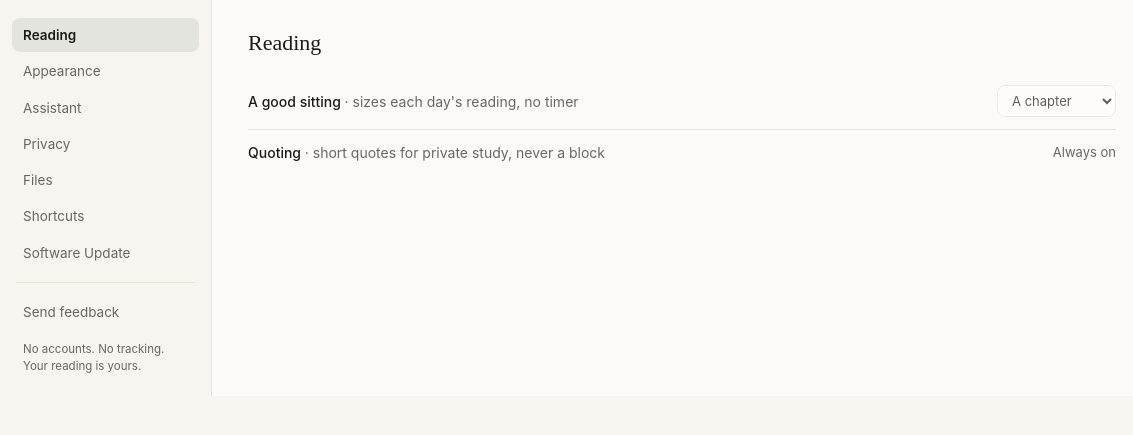
Test: Appearance pane › the text-size stepper nudges the shared tl.fontSize pref and shows pt
Click the button "Appearance" at {"x": 106, "y": 71}, box [12,54,199,89]
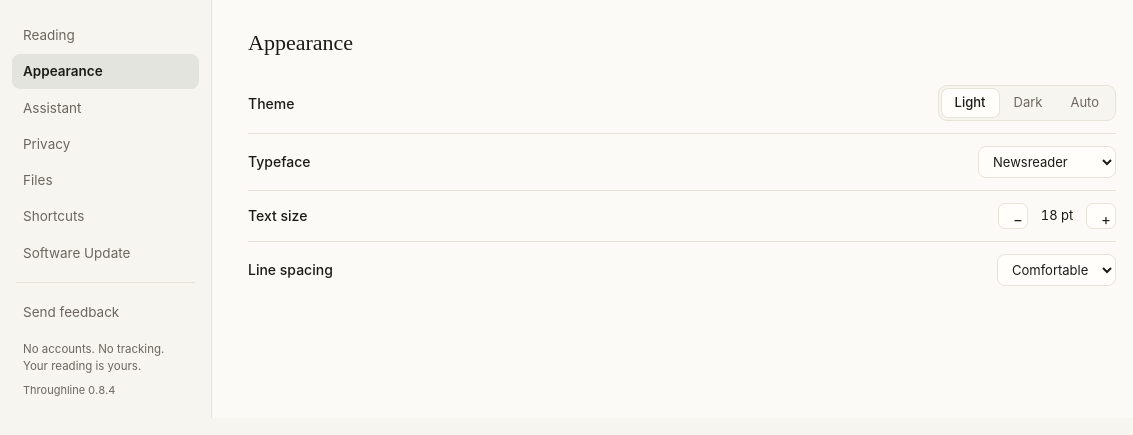
Result: the text "18 pt" is shown at [1041,207,1073,223]
Click the button named "Larger text" at {"x": 1101, "y": 216}, box [1086,203,1116,229]
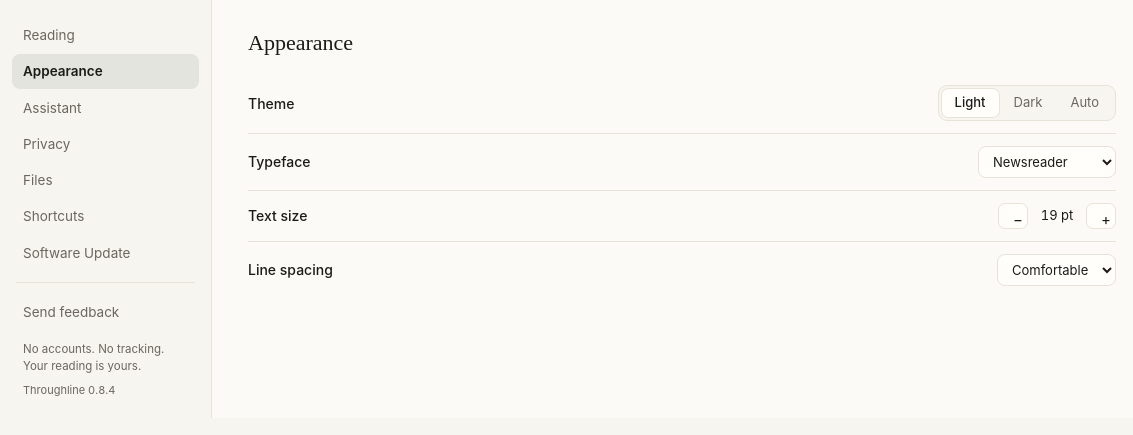
Result: the text "19 pt" is shown at [1041,207,1073,223]
Click the button named "Smaller text" at {"x": 1013, "y": 216}, box [998,203,1028,229]
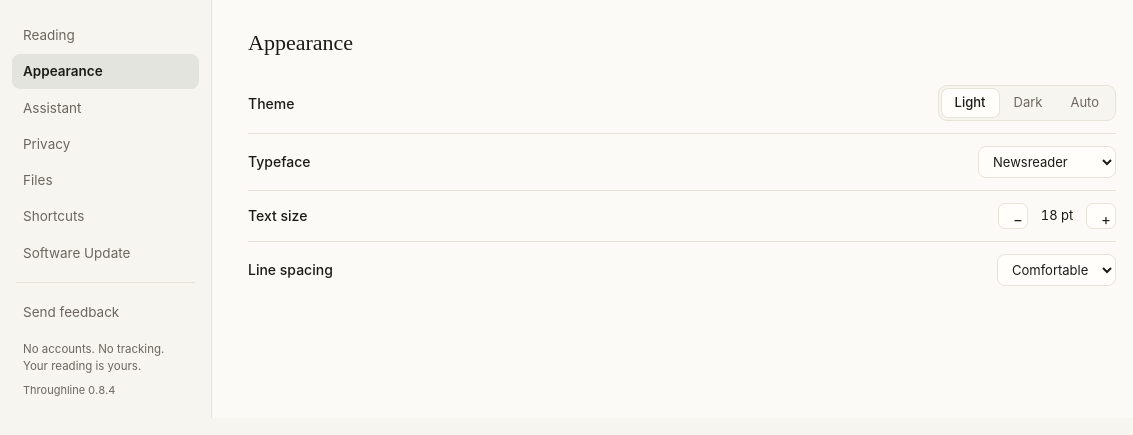
Result: the text "18 pt" is shown at [1041,207,1073,223]
